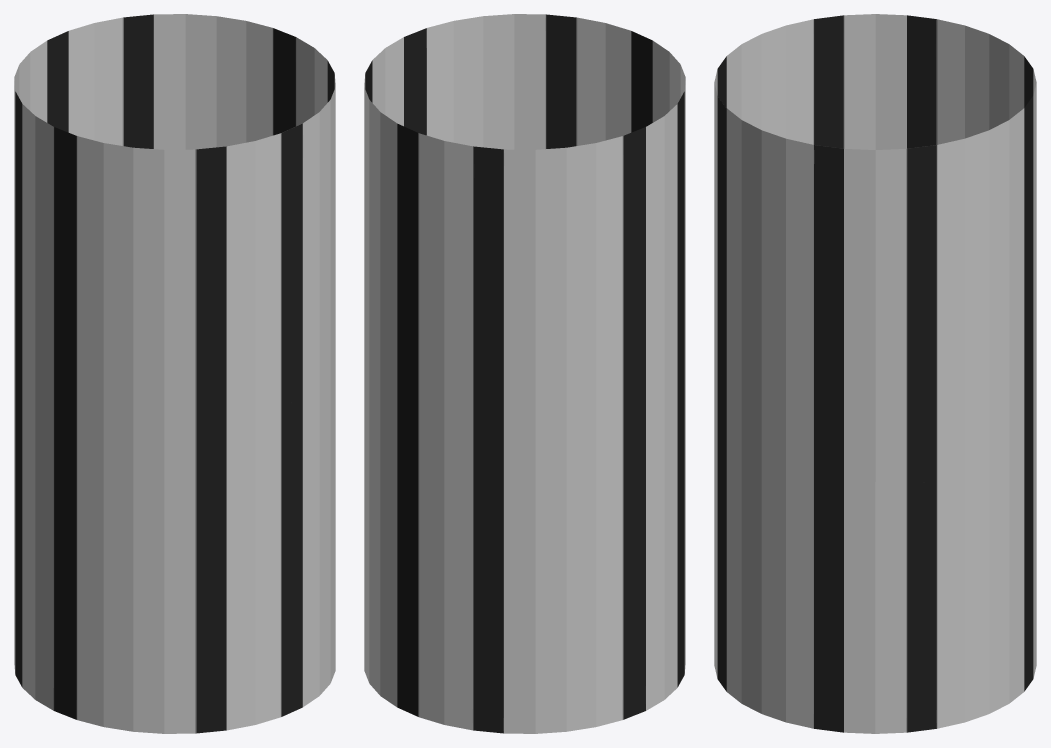
File: FuelTank.fbx
The picture shows the model from 3 angles, left to right: view 1: azimuth 30°, elevation 25°; view 2: azimuth 150°, elevation 25°; view 3: azimuth 270°, elevation 25°; orthographic projection.
Visible parts, largest first — view 1: FuelTank; view 2: FuelTank; view 3: FuelTank.
Part boxes in pixels (x1,y1,x2,y2): FuelTank: (14,14,335,733); FuelTank: (364,14,685,733); FuelTank: (714,14,1036,733).
Bounding box in the file's own units: 2 × 4 × 2.
Materials: 1 (1 with a texture image).
